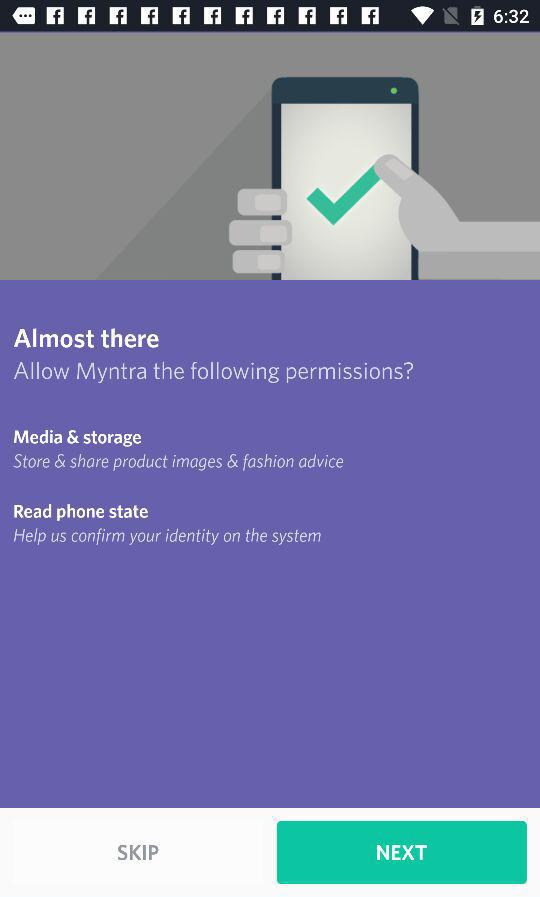Image: (1, 33, 540, 281)
Text: (14, 361, 414, 385), (12, 452, 345, 473), (13, 527, 322, 548), (14, 327, 161, 350), (13, 503, 150, 523), (13, 429, 143, 449), (118, 844, 160, 861)
TextButton: (277, 821, 527, 884)
UpperTaskBar: (1, 1, 540, 33)
